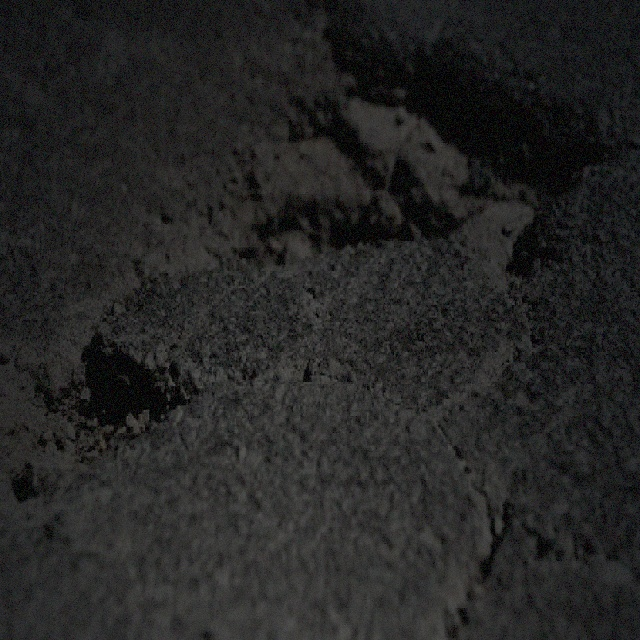pothole: (185, 2, 614, 292), (0, 317, 196, 499)
